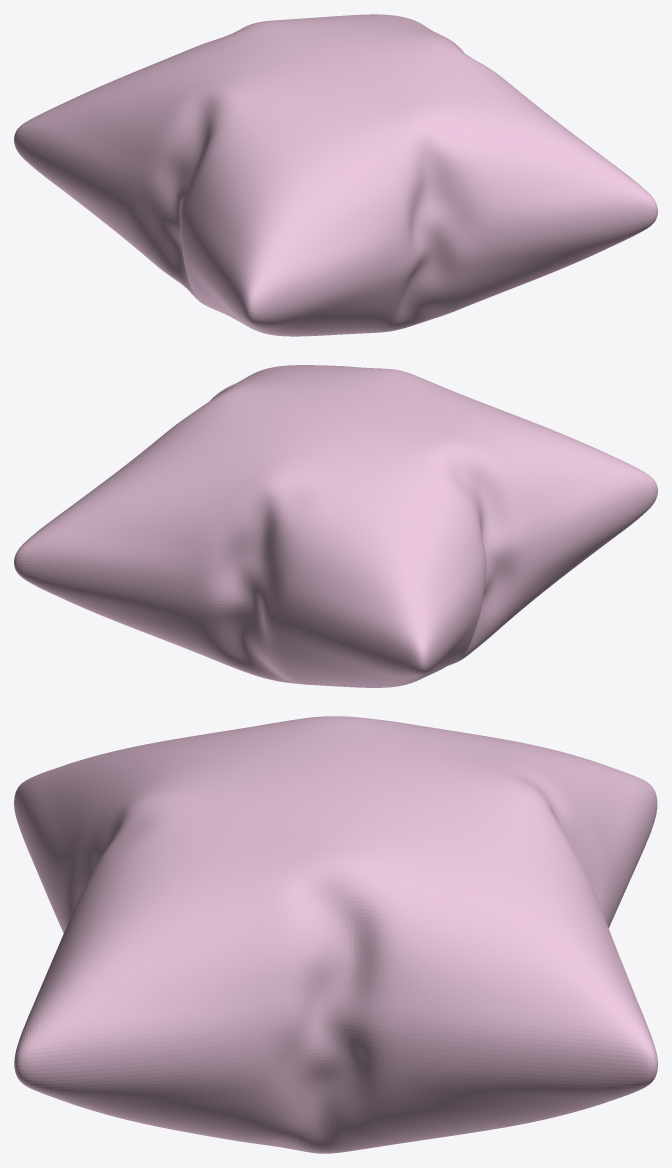
The model's file is cushion.fbx.
3 views of the same model, one above another, from view 1: azimuth 30°, elevation 25°; view 2: azimuth 150°, elevation 25°; view 3: azimuth 270°, elevation 25° (orthographic). The views are drawn at different scales.
Visible parts, largest first — view 1: 平面; view 2: 平面; view 3: 平面.
Boxes of the visible parts, x1,y1,x2,y2 form: 平面: (14, 14, 657, 336); 平面: (14, 365, 657, 687); 平面: (14, 716, 657, 1153).
Bounding box in the file's own units: 1.86 × 1 × 1.86.
